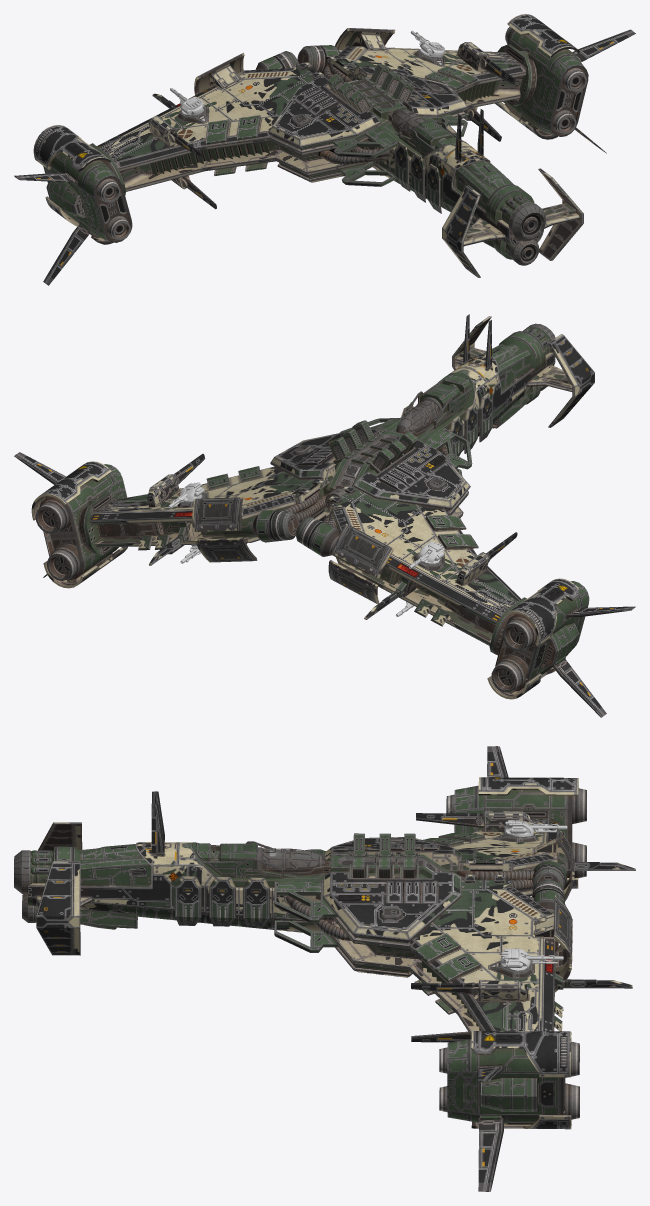
Rendered from Mjolnir.obj.
3 views of the same model, one above another, from view 1: azimuth 30°, elevation 25°; view 2: azimuth 150°, elevation 25°; view 3: azimuth 270°, elevation 25° (orthographic). The views are drawn at different scales.
Visible parts, largest first — view 1: mjolnir_Mesh.031_lambert2, mjolnir_Mesh.031_lambert5; view 2: mjolnir_Mesh.031_lambert2, mjolnir_Mesh.031_lambert5, mjolnir_Mesh.031_phong1; view 3: mjolnir_Mesh.031_lambert2, mjolnir_Mesh.031_lambert5, mjolnir_Mesh.031_phong1.
Boxes of the visible parts, x1=… form: mjolnir_Mesh.031_lambert2: x1=14, y1=14, x2=635, y2=285; mjolnir_Mesh.031_lambert5: x1=170, y1=30, x2=444, y2=115; mjolnir_Mesh.031_lambert2: x1=14, y1=314, x2=635, y2=717; mjolnir_Mesh.031_lambert5: x1=168, y1=482, x2=444, y2=616; mjolnir_Mesh.031_phong1: x1=399, y1=400, x2=436, y2=430; mjolnir_Mesh.031_lambert2: x1=14, y1=746, x2=635, y2=1191; mjolnir_Mesh.031_lambert5: x1=500, y1=820, x2=567, y2=1010; mjolnir_Mesh.031_phong1: x1=264, y1=848, x2=319, y2=867.
Bounding box in the file's own units: 2.62 × 0.88 × 2.06.
